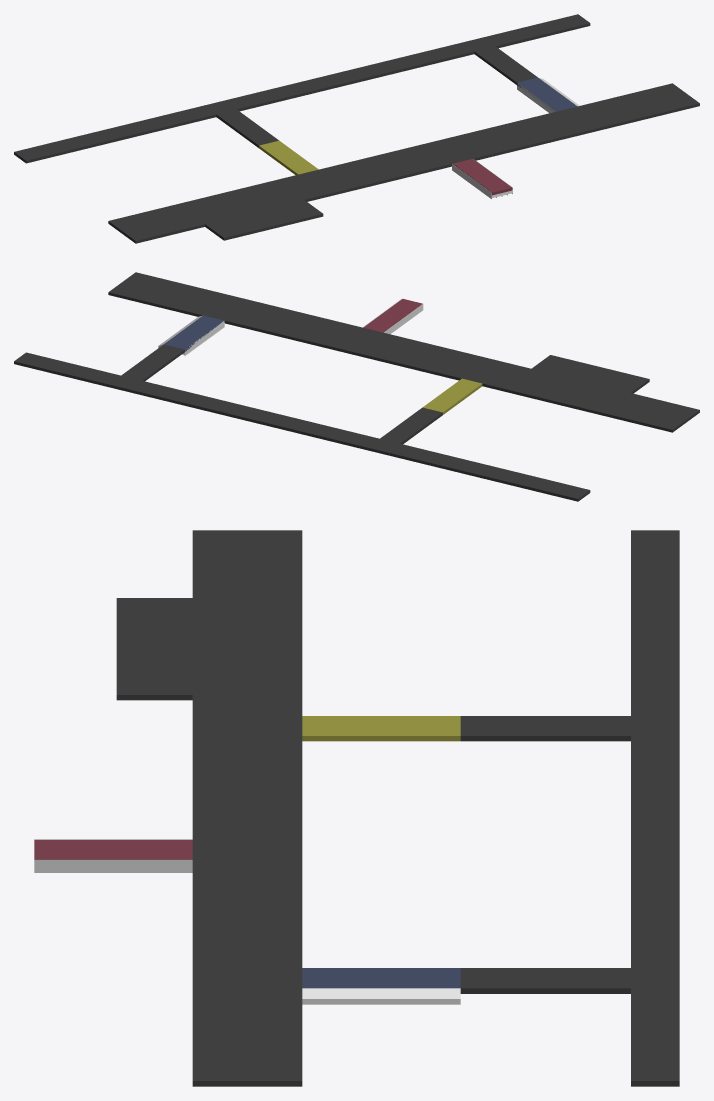
The model's file is FloorR7.fbx.
3 renders of one model, top to bottom at view 1: azimuth 30°, elevation 25°; view 2: azimuth 150°, elevation 25°; view 3: azimuth 270°, elevation 25°, orthographic. The views are drawn at different scales.
Parts seen in each view (by area): view 1: FloorR7Middle, FloorR7Corridor, FloorR7YellowAisle, FloorR7BlueAisle, FloorR7RedAisle, FloorR7RedAisleFoundation, FloorR7BlueAisleFoundation; view 2: FloorR7Middle, FloorR7Corridor, FloorR7YellowAisle, FloorR7BlueAisle, FloorR7RedAisle, FloorR7BlueAisleFoundation; view 3: FloorR7Middle, FloorR7Corridor, FloorR7YellowAisle, FloorR7BlueAisle, FloorR7RedAisle, FloorR7BlueAisleFoundation, FloorR7RedAisleFoundation.
Boxes of the visible parts, x1,y1,x2,y2 form: FloorR7Middle: (108,83,699,243); FloorR7Corridor: (14,14,590,163); FloorR7YellowAisle: (216,109,318,174); FloorR7BlueAisle: (474,46,577,111); FloorR7RedAisle: (453,159,511,195); FloorR7RedAisleFoundation: (452,159,512,199); FloorR7BlueAisleFoundation: (517,78,579,113); FloorR7Middle: (108,272,699,432); FloorR7Corridor: (14,352,590,501); FloorR7YellowAisle: (380,378,482,444); FloorR7BlueAisle: (121,315,223,381); FloorR7RedAisle: (363,299,422,332); FloorR7BlueAisleFoundation: (158,315,224,355); FloorR7Middle: (116,530,302,1086); FloorR7Corridor: (631,530,679,1086); FloorR7YellowAisle: (302,716,630,741); FloorR7BlueAisle: (302,968,630,993); FloorR7RedAisle: (34,840,192,859); FloorR7BlueAisleFoundation: (302,988,460,1004); FloorR7RedAisleFoundation: (34,839,192,872).
Size of the model in its own units: 10700 by 120 by 5300.
